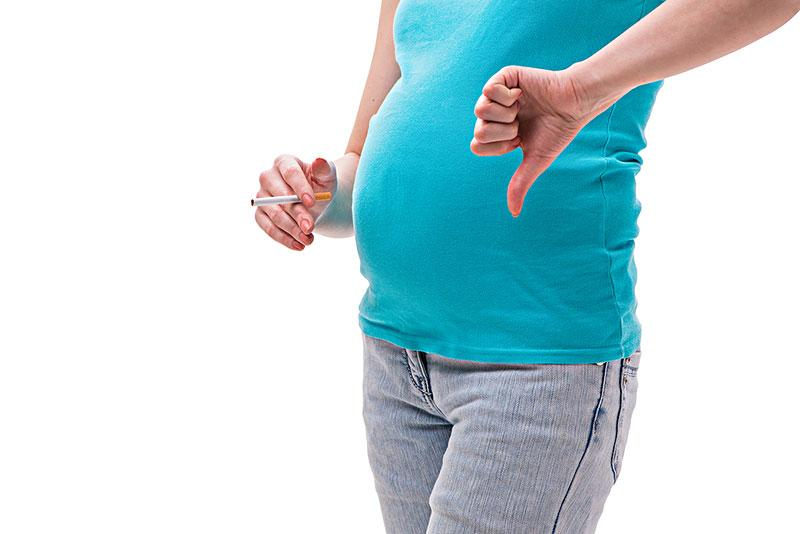smoke: (250, 191, 333, 208)
